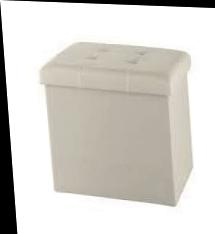cube: (37, 40, 199, 205)
